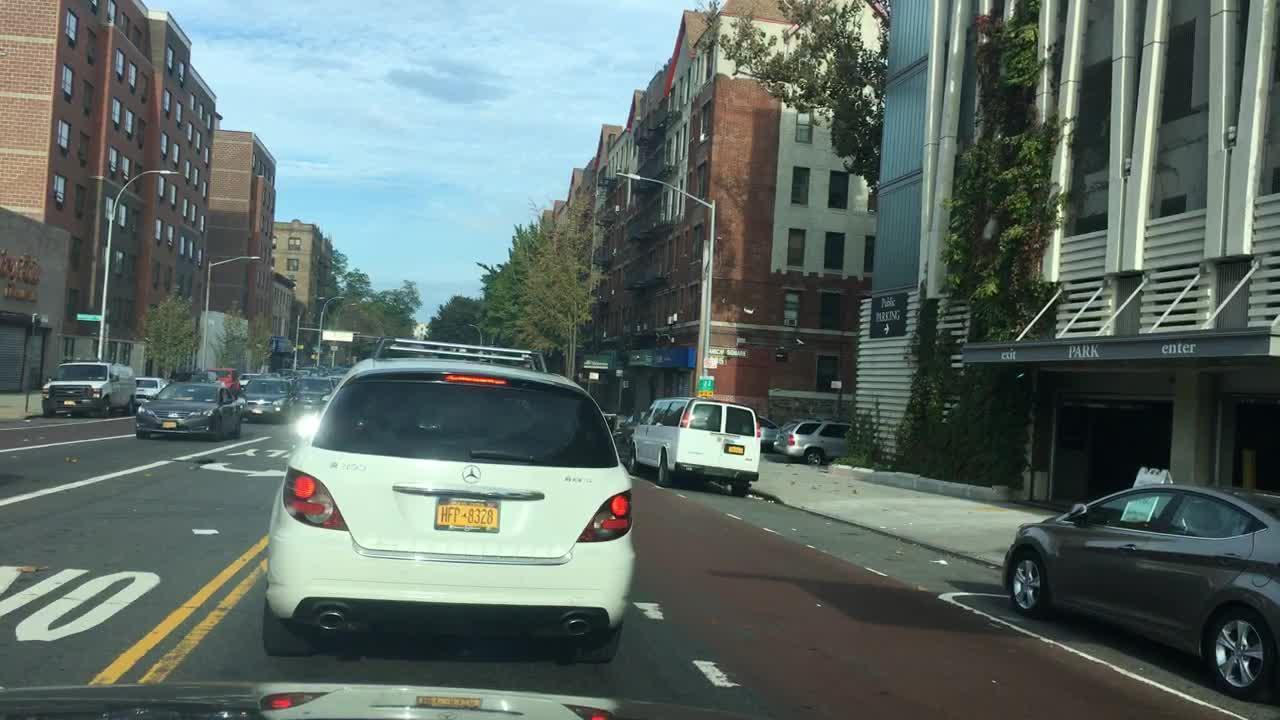Mercedes: (458, 457, 486, 486)
